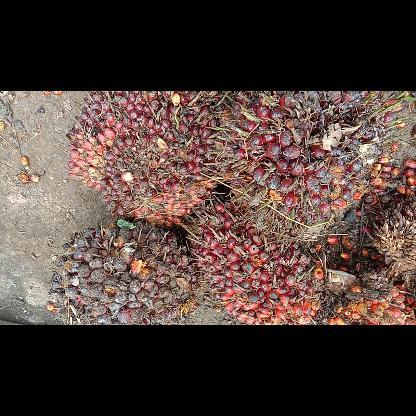Kurang masak: (48, 218, 198, 324)
TBS masak: (216, 90, 404, 232), (63, 91, 231, 230), (183, 196, 337, 324)
